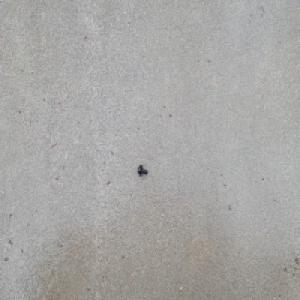BoltWasher: (137, 163, 147, 176)
